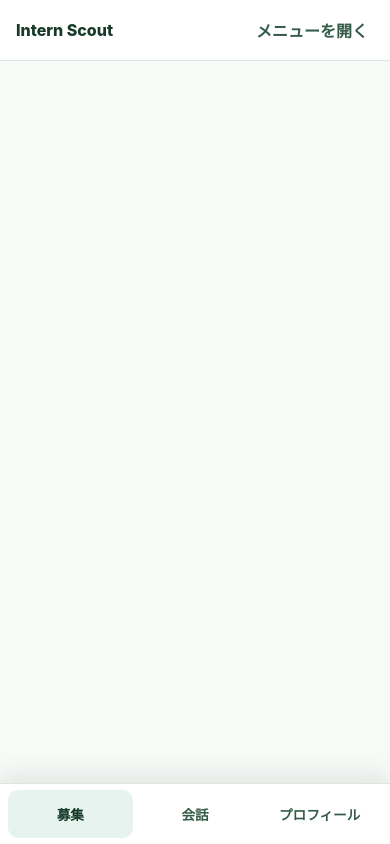
Test case: AppNavigation › separates primary mobile navigation from settings and logout
The image size is (390, 844).
Expected: the link "募集" is shown, [8, 790, 133, 838]
Expected: the link "会話" is shown, [181, 807, 209, 823]
Click the button "メニューを開く".
click(312, 30)  # box [250, 6, 374, 54]
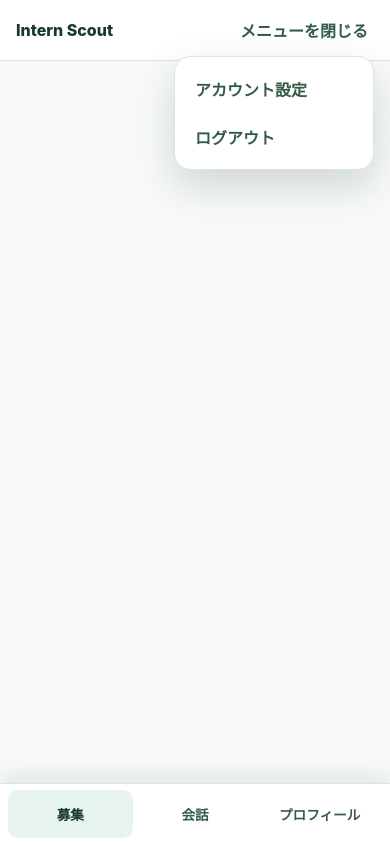
Expected: the button "メニューを閉じる" is expanded, [234, 6, 374, 54]
Expected: the menu item "アカウント設定" is shown, [195, 80, 307, 100]
Expected: the menu item "ログアウト" is shown, [183, 113, 365, 161]
